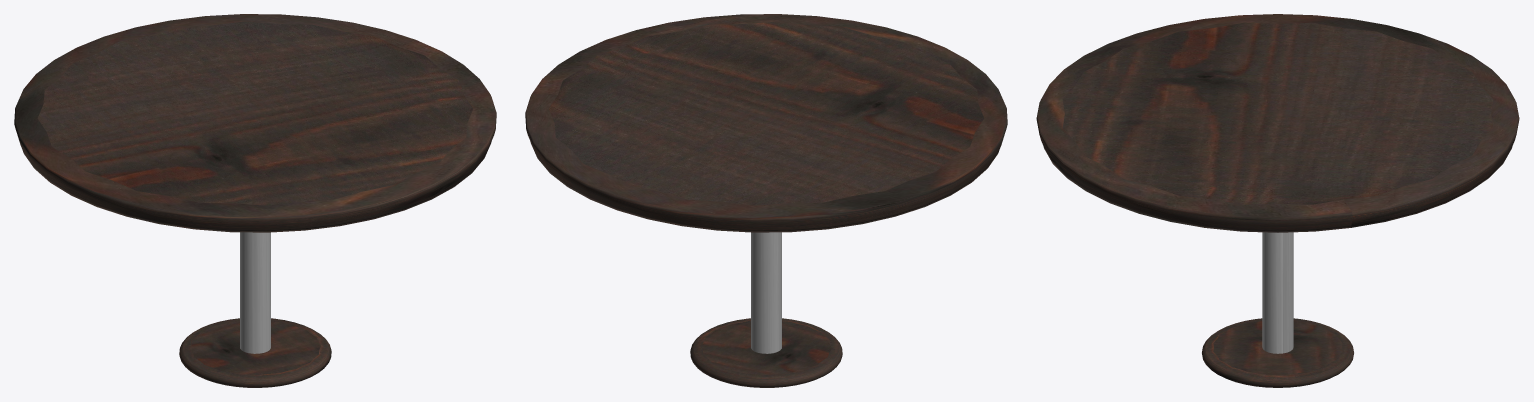
File: desk.fbx
3 renders of one model, left to right at view 1: azimuth 30°, elevation 25°; view 2: azimuth 150°, elevation 25°; view 3: azimuth 270°, elevation 25°, orthographic.
Visible parts, largest first — view 1: pCylinder1, pCylinder3, pCylinder2; view 2: pCylinder1, pCylinder3, pCylinder2; view 3: pCylinder1, pCylinder3, pCylinder2.
Part boxes in pixels (left/top/right/bottom): pCylinder1: left=14, top=14, right=496, bottom=232; pCylinder3: left=179, top=318, right=331, bottom=387; pCylinder2: left=240, top=232, right=270, bottom=353; pCylinder1: left=525, top=14, right=1007, bottom=232; pCylinder3: left=690, top=318, right=842, bottom=387; pCylinder2: left=751, top=232, right=781, bottom=353; pCylinder1: left=1036, top=14, right=1519, bottom=232; pCylinder3: left=1202, top=318, right=1353, bottom=387; pCylinder2: left=1262, top=232, right=1293, bottom=353.
Size of the model in its own units: 8.05 by 4.56 by 8.05.
